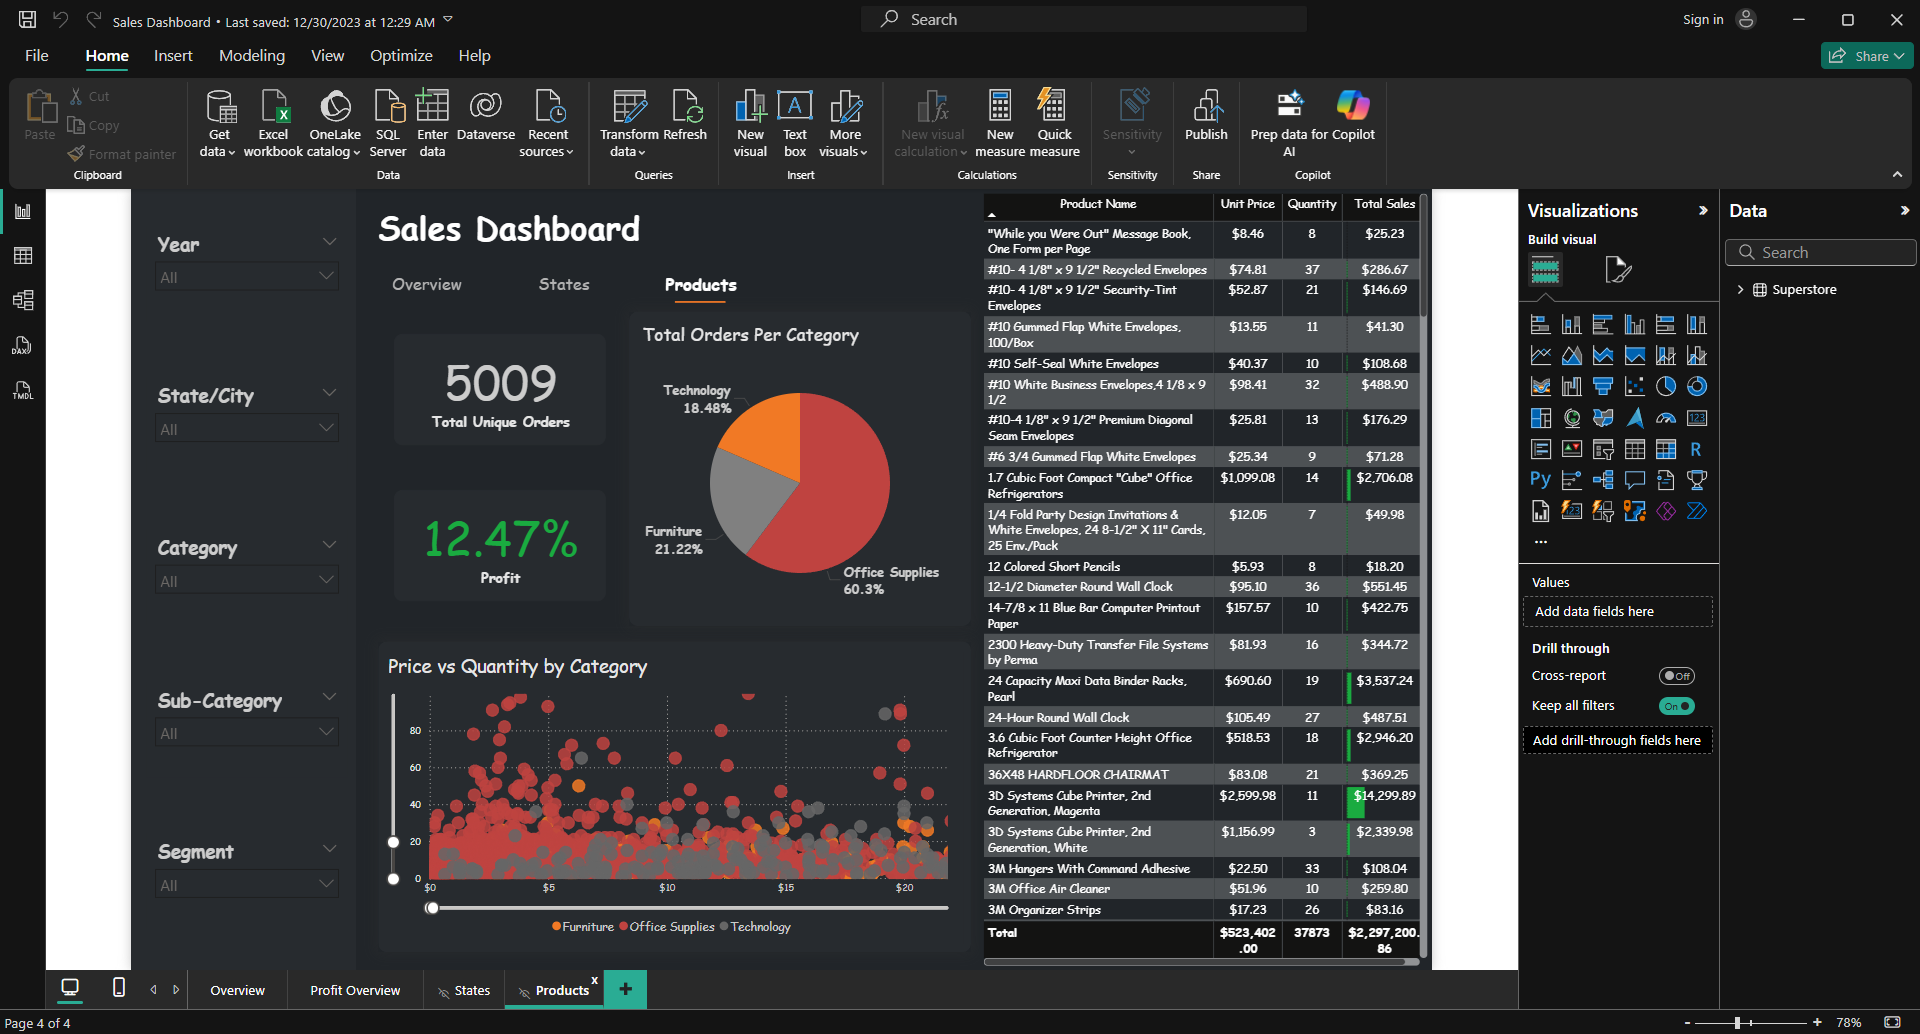

The page's visual inventory and layout, read from the dashboard file:
{"tool":"powerbi","page":{"name":"Products","canvas":[1500,900],"ordinal":3},"visuals":[{"type":"shape","box":[573.8,141.6,393.9,362.3],"z":0},{"type":"shape","box":[285.5,521.1,682.9,357.9],"z":1000},{"type":"shape","box":[0,0,259.7,900.6],"z":2000},{"type":"slicer","title":"City ","fields":{"Values":["Superstore.State","Superstore.City"]},"box":[17.6,217.3,231.8,110.2],"z":3000},{"type":"slicer","title":"City ","fields":{"Values":["Superstore.Category"]},"box":[17.6,392.3,231.8,110.2],"z":4000},{"type":"slicer","title":"City ","fields":{"Values":["Superstore.Segment"]},"box":[17.5,742.3,232,110],"z":5000},{"type":"slicer","title":"City ","fields":{"Values":["Superstore.Order Date.Variation.Date Hierarchy.Year"]},"box":[17.5,42.5,232,110],"z":6000},{"type":"slicer","title":"City ","fields":{"Values":["Superstore.Sub-Category"]},"box":[17.6,567.3,231.8,110.2],"z":7000},{"type":"card","fields":{"Values":["Superstore.% Profit"]},"box":[302.7,347.1,244.5,127.9],"z":8000},{"type":"scatterChart","title":"Price vs Quantity by Category","fields":{"Y":["Sum(Superstore.Quantity)"],"Series":["Superstore.Category"],"X":["Superstore.Unit Price"]},"box":[291.3,534.6,666.3,334.4],"z":9000},{"type":"card","fields":{"Values":["Count(Superstore.Order ID)"]},"box":[302.7,167.2,244.5,127.9],"z":10000},{"type":"pivotTable","fields":{"Values":["Sum(Superstore.Unit Price)","Sum(Superstore.Quantity)","Sum(Superstore.Sales)"],"Rows":["Superstore.Product Name"]},"box":[977.9,0,521.9,900.6],"z":11000},{"type":"pieChart","title":"Total Orders Per Category","fields":{"Category":["Superstore.Category"],"Y":["CountNonNull(Superstore.Order ID)"]},"box":[585.2,153.3,372.4,339.5],"z":12000},{"type":"pageNavigator","box":[267,84.9,464.9,48.1],"z":13000},{"type":"shape","box":[627,114,58.3,31.7],"z":14000},{"type":"textbox","box":[279.9,11.4,347.1,69.7],"z":15000}]}

Visuals, with their boxes on the page's 1500x900 design canvas (x1, y1, x2, y2). These are canvas units, not pixel positions in the 1920x1034 screenshot, which may show the page scaled, cropped or inside an application window:
shape: crop(574, 142, 968, 504)
shape: crop(286, 521, 968, 879)
shape: crop(0, 0, 260, 901)
"City " slicer: crop(18, 217, 249, 328)
"City " slicer: crop(18, 392, 249, 502)
"City " slicer: crop(18, 742, 250, 852)
"City " slicer: crop(18, 42, 250, 152)
"City " slicer: crop(18, 567, 249, 678)
card - Superstore.% Profit: crop(303, 347, 547, 475)
"Price vs Quantity by Category" scatterChart: crop(291, 535, 958, 869)
card - Count(Superstore.Order ID): crop(303, 167, 547, 295)
pivotTable - Sum(Superstore.Unit Price) x Sum(Superstore.Quantity): crop(978, 0, 1500, 901)
"Total Orders Per Category" pieChart: crop(585, 153, 958, 493)
pageNavigator: crop(267, 85, 732, 133)
shape: crop(627, 114, 685, 146)
textbox: crop(280, 11, 627, 81)
